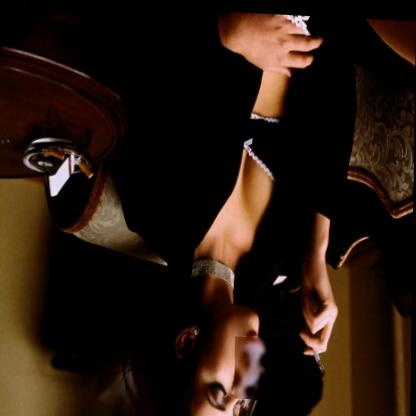smoke: (235, 334, 269, 397)
